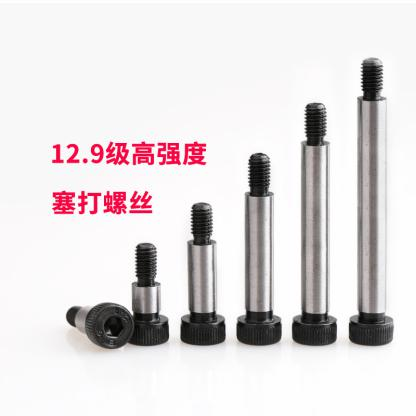FOD: (346, 56, 396, 350), (289, 90, 338, 346), (234, 150, 283, 347), (178, 202, 228, 347), (118, 242, 170, 346), (64, 302, 134, 351)
